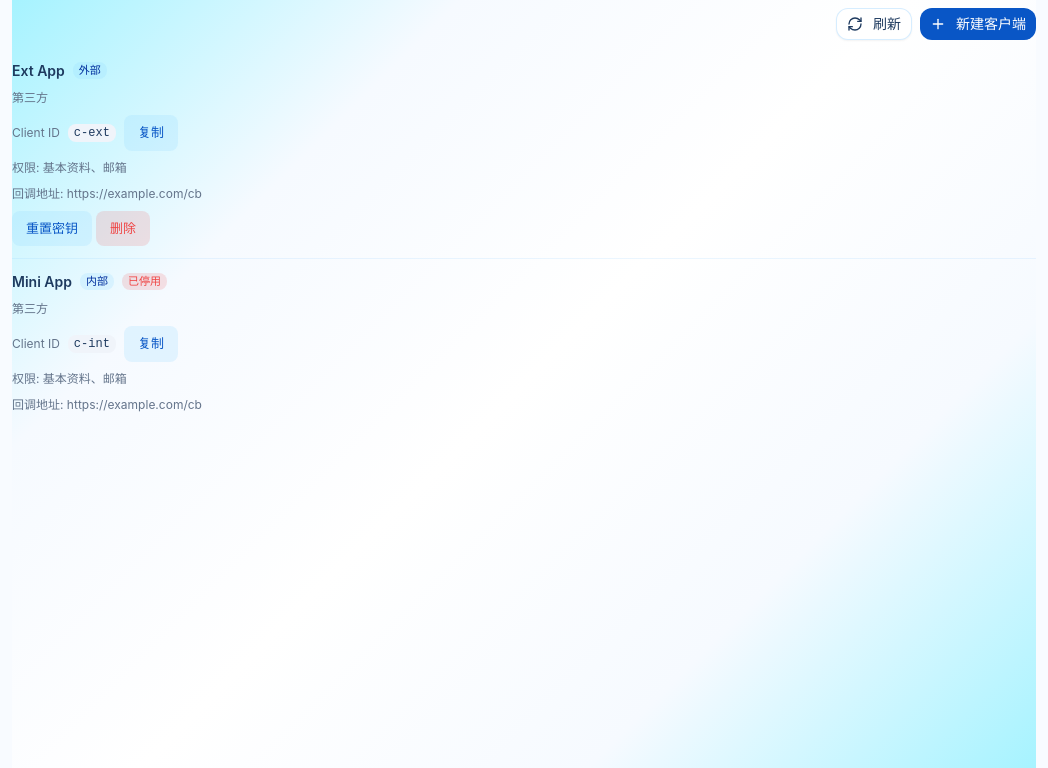
Scenario: OAuthClientsPanel › 删除失败：role=alert 显示「操作失败」，卡片还在
Expected: the text "Ext App" is shown, [12,60,65,81]
Click the button "删除" at [123, 228], box [96,210,150,246]
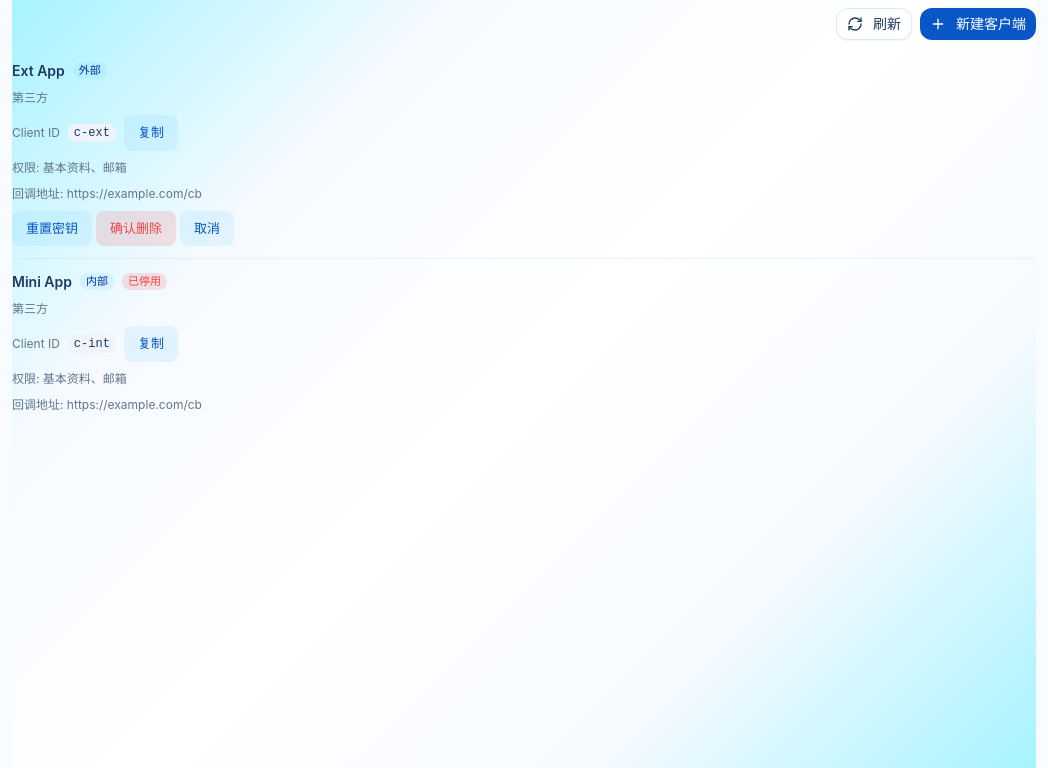
Click the button "确认删除" at [136, 228], box [96,210,176,246]
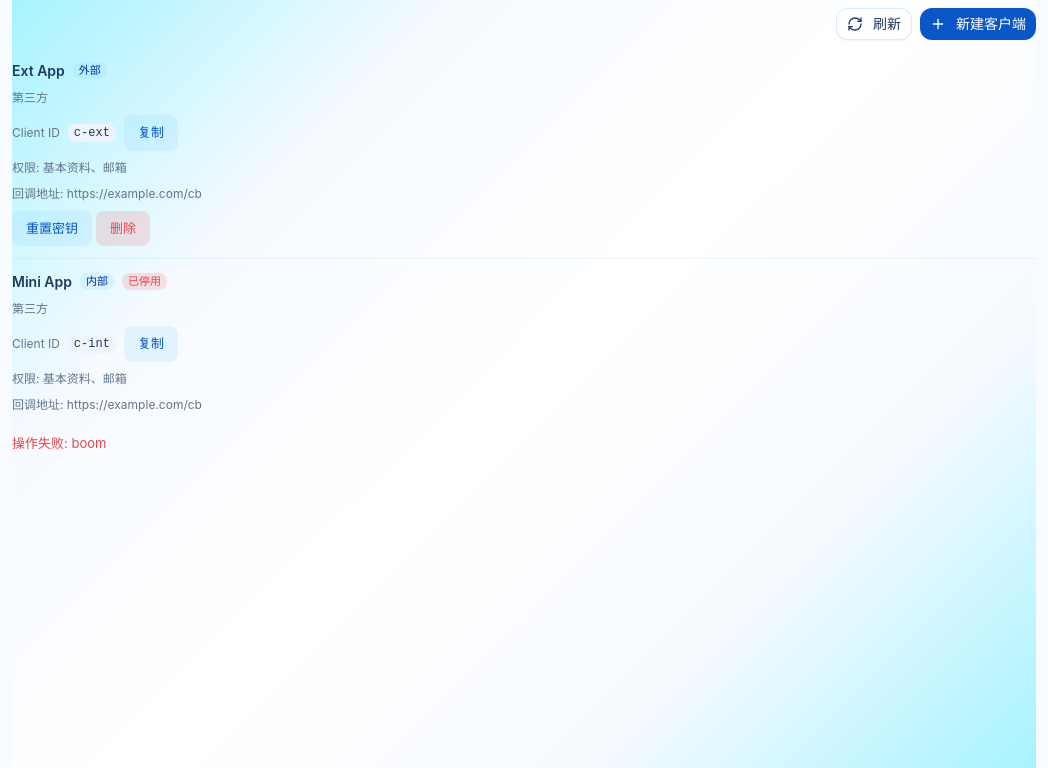
Expected: the text "Ext App" is shown, [12,60,65,81]
Now the message shows "操作失败", box [12,434,64,450]
